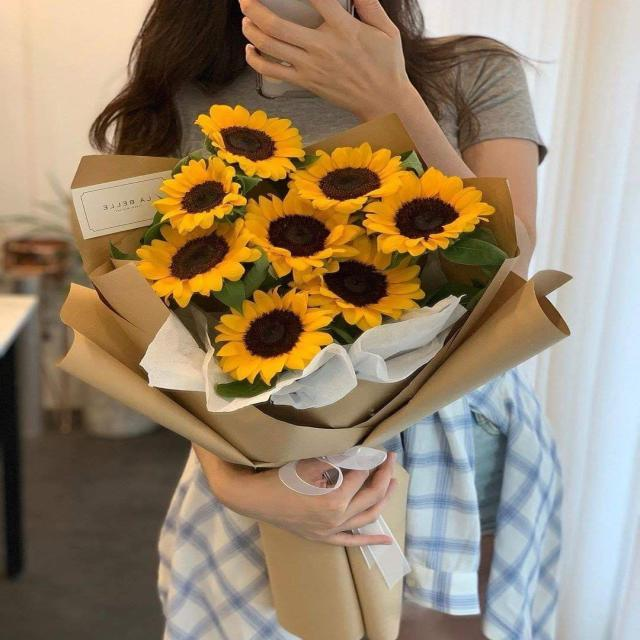sunflower: (286, 234, 426, 331), (212, 284, 334, 386), (362, 166, 495, 256), (134, 218, 260, 308), (242, 188, 362, 282), (288, 141, 408, 215), (193, 104, 305, 180), (150, 156, 246, 233)
